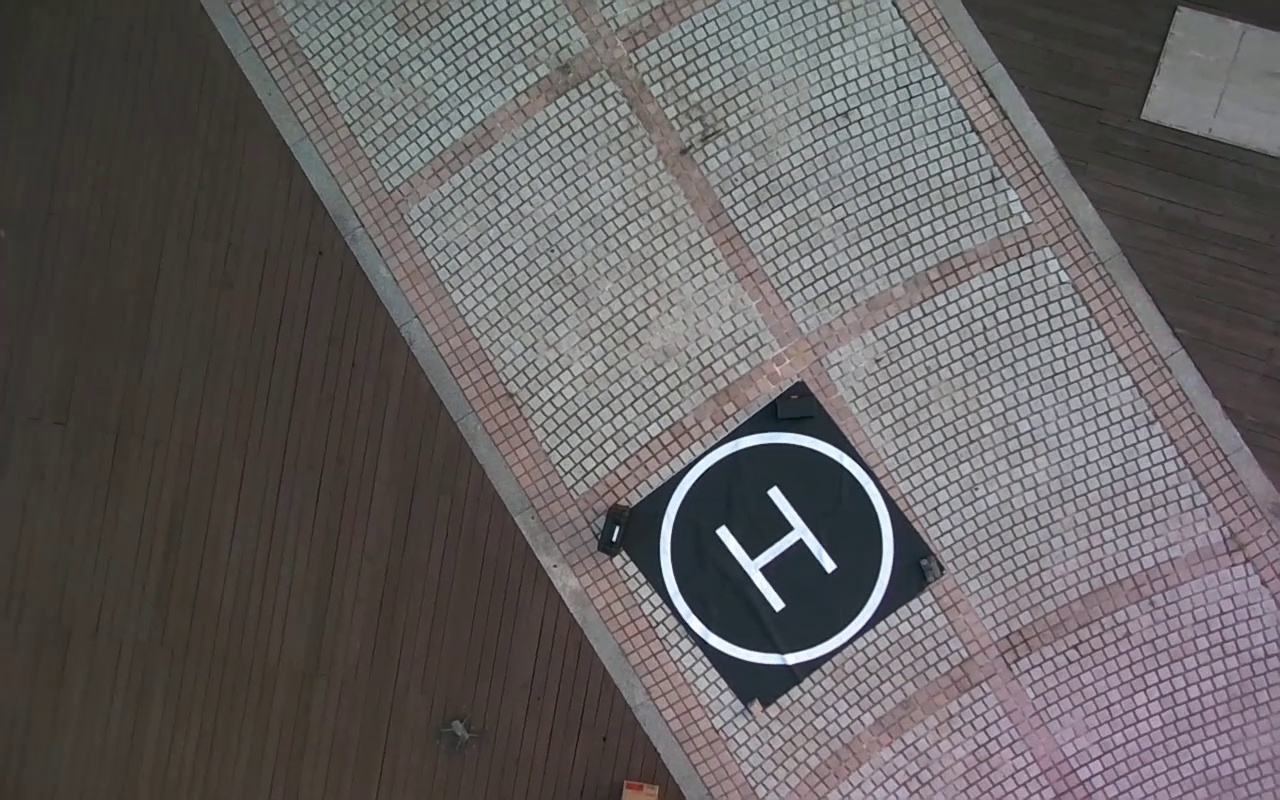H: (714, 484, 838, 612)
heliport: (658, 431, 897, 665)
